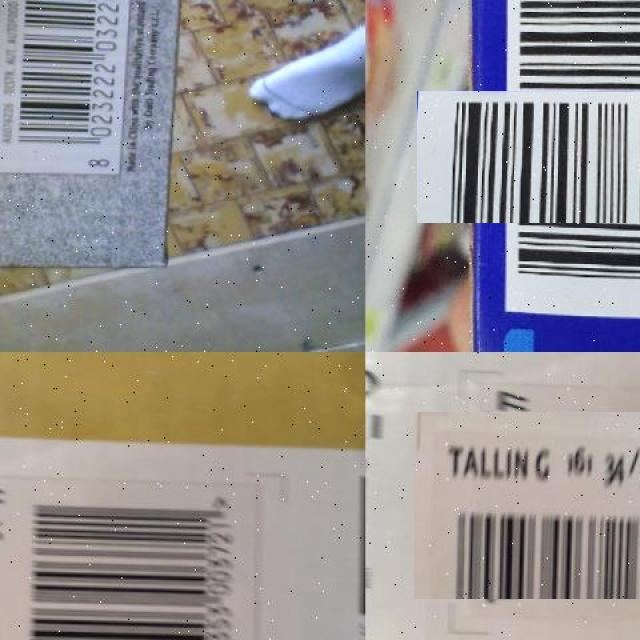Barcode: (0, 465, 286, 639), (433, 392, 640, 618), (462, 45, 640, 268), (0, 0, 135, 176)
